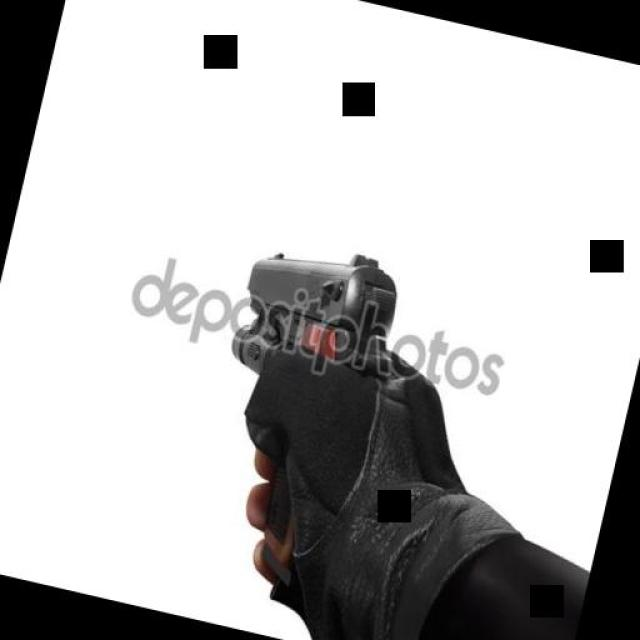gun: (183, 229, 405, 596)
